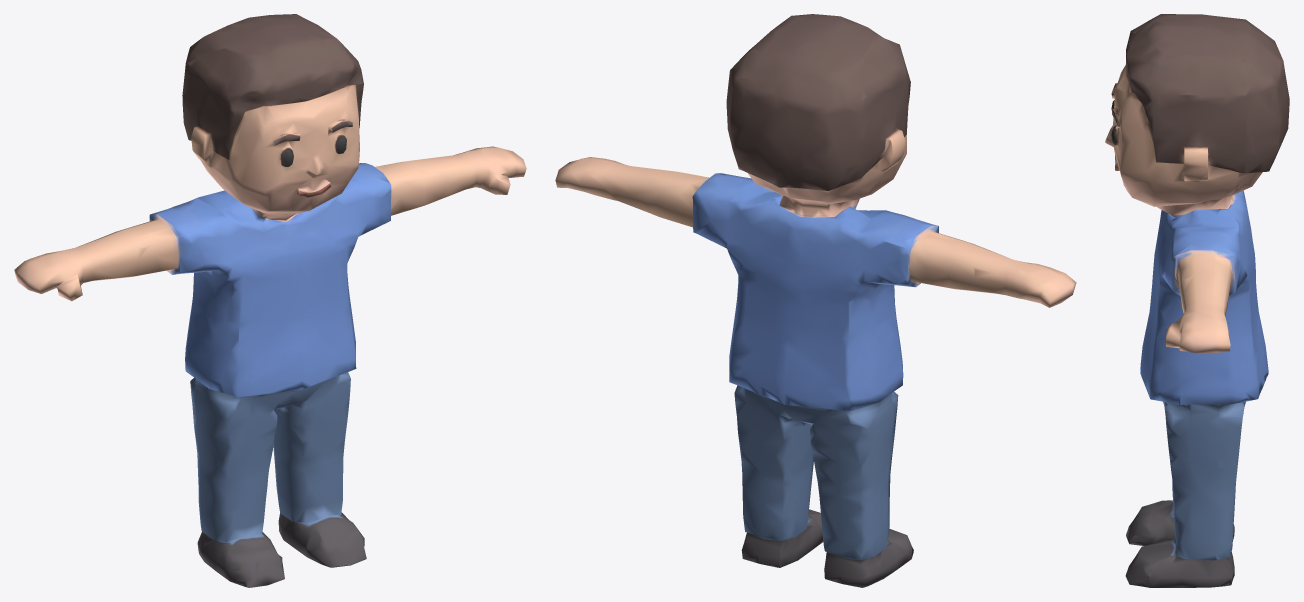
File: customer_a_front.glb
The picture shows the model from 3 angles, left to right: view 1: azimuth 30°, elevation 25°; view 2: azimuth 150°, elevation 25°; view 3: azimuth 270°, elevation 25°; orthographic projection.
Parts seen in each view (by area): view 1: tripo_node_fdf157e8-f02b-4c2d-be80-d330588d5676; view 2: tripo_node_fdf157e8-f02b-4c2d-be80-d330588d5676; view 3: tripo_node_fdf157e8-f02b-4c2d-be80-d330588d5676.
Part boxes in pixels (x1,y1,x2,y2): tripo_node_fdf157e8-f02b-4c2d-be80-d330588d5676: (14, 14, 526, 587); tripo_node_fdf157e8-f02b-4c2d-be80-d330588d5676: (555, 14, 1076, 587); tripo_node_fdf157e8-f02b-4c2d-be80-d330588d5676: (1105, 14, 1289, 587).
Size of the model in its own units: 0.9941 by 1 by 0.3163.
Materials: 1 (1 with a texture image).
